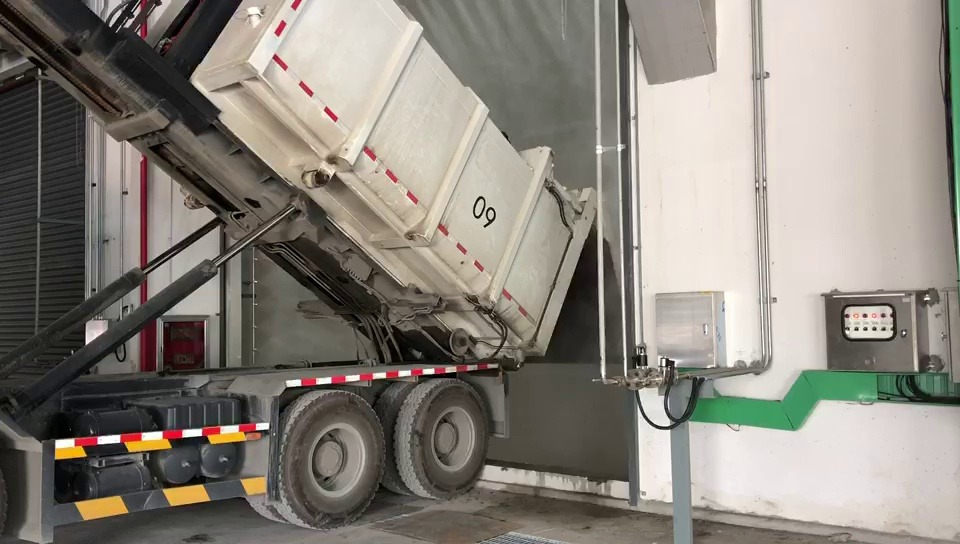truck: (0, 0, 597, 544)
